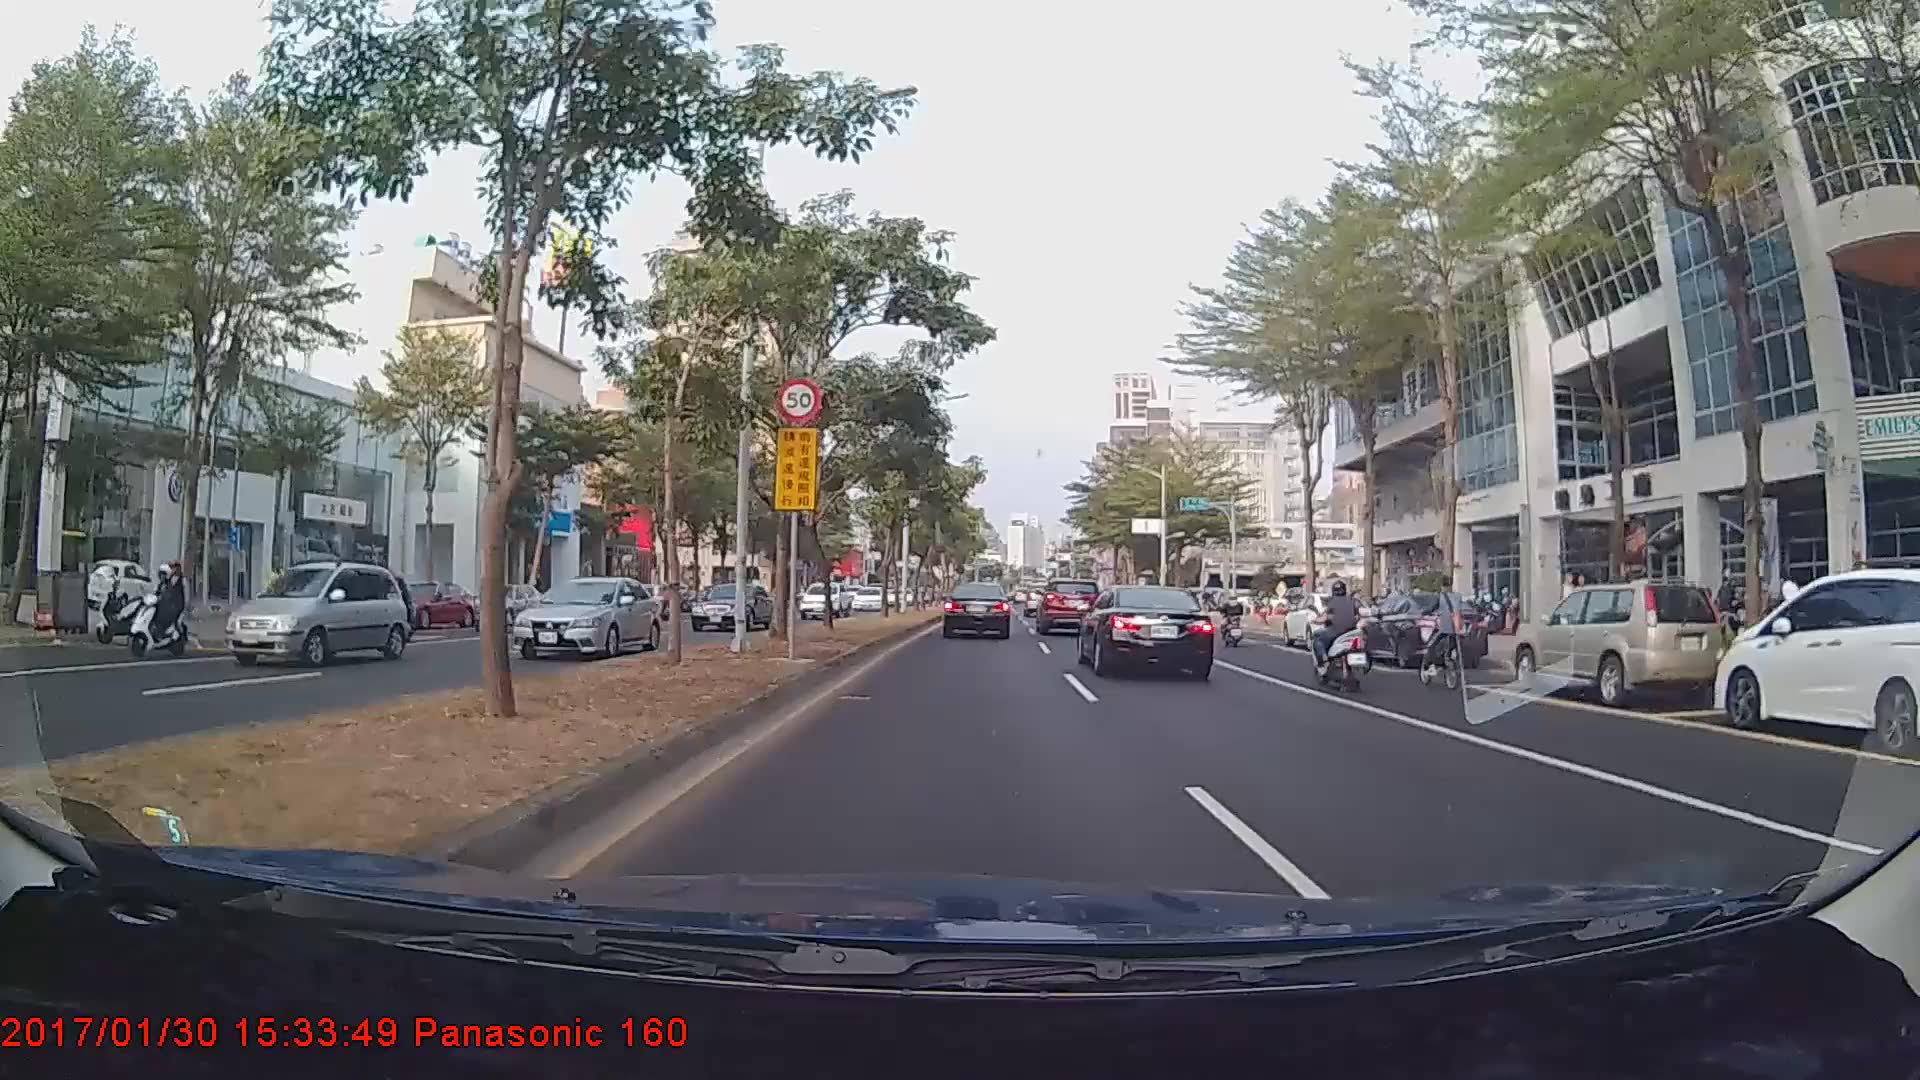rider: (1300, 579, 1379, 697), (121, 558, 196, 663), (1414, 576, 1477, 695), (1332, 587, 1385, 677), (1215, 594, 1250, 650)
vehicle: (1714, 570, 1920, 755), (1514, 579, 1725, 709), (219, 559, 406, 671), (1078, 581, 1216, 680), (512, 578, 661, 663), (1354, 594, 1489, 671), (1278, 591, 1374, 649), (689, 580, 774, 632), (388, 579, 473, 629), (942, 579, 1012, 639), (1036, 576, 1096, 633), (467, 583, 550, 622), (797, 580, 850, 621), (850, 586, 887, 611)
